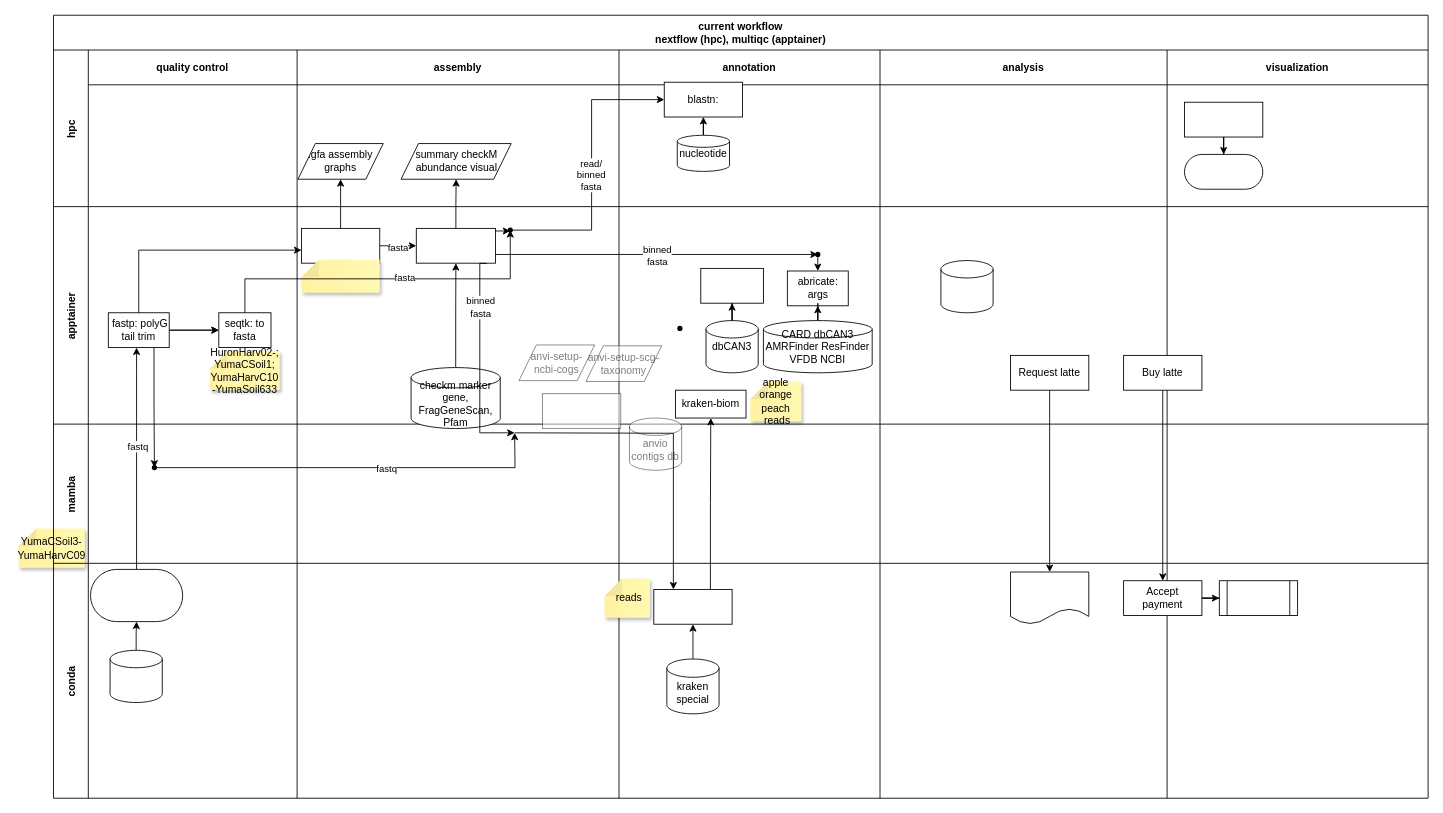
This 1443x813 diagram has some shape labels left out. Here are the shapes that lost their labels. From the top down, the centre of each, then its label:
the point at 1223,119: Drink latte
the point at 1223,171: End
the point at 340,245: metaspades: assembly
the point at 455,245: maxbin2: bin contigs
the point at 341,277: apple orange peach
the point at 731,285: deeparg: args
the point at 581,410: anvio contigs
the point at 136,595: metawrap read_qc: remove low quality & human-host reads
the point at 692,606: kraken 2: taxanomy
the point at 1049,597: Write details on cup
the point at 1258,598: Make latte
the point at 135,676: bmtagger hg38
